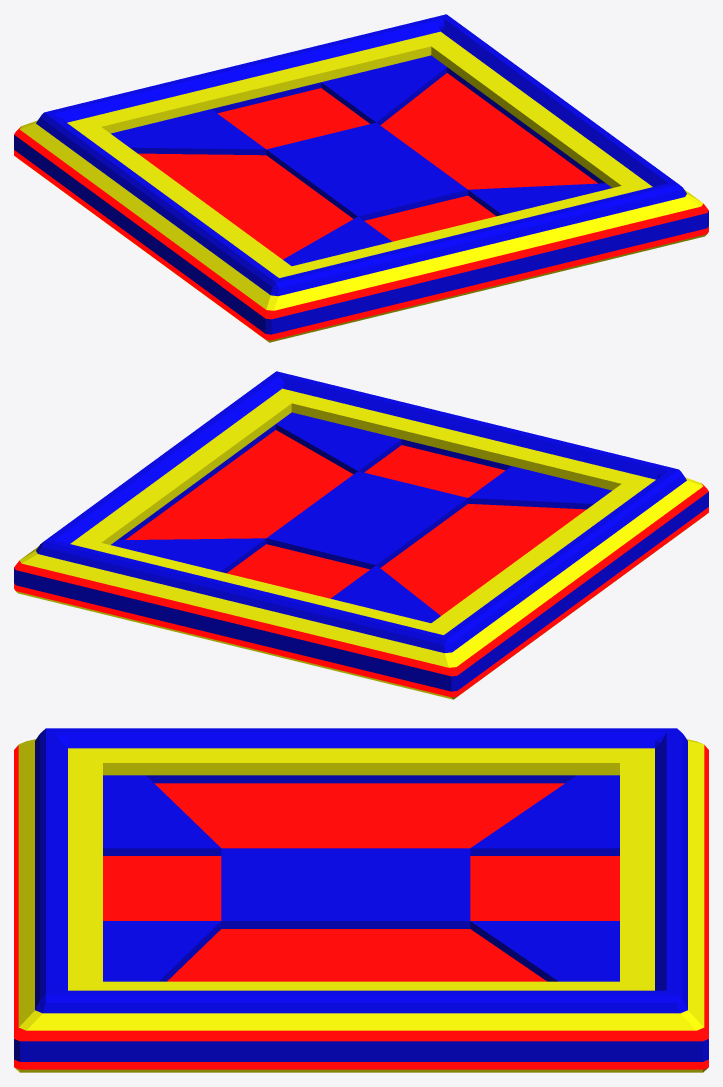
Rendered from Squish Trap Base.fbx.
3 views of the same model, one above another, from view 1: azimuth 30°, elevation 25°; view 2: azimuth 150°, elevation 25°; view 3: azimuth 270°, elevation 25° (orthographic). The views are drawn at different scales.
Parts seen in each view (by area): view 1: Squish Trap Base; view 2: Squish Trap Base; view 3: Squish Trap Base.
Boxes of the visible parts, x1,y1,x2,y2 form: Squish Trap Base: [14, 14, 708, 342]; Squish Trap Base: [14, 371, 708, 699]; Squish Trap Base: [14, 728, 708, 1072].
Size of the model in its own units: 200 by 21.14 by 200.
